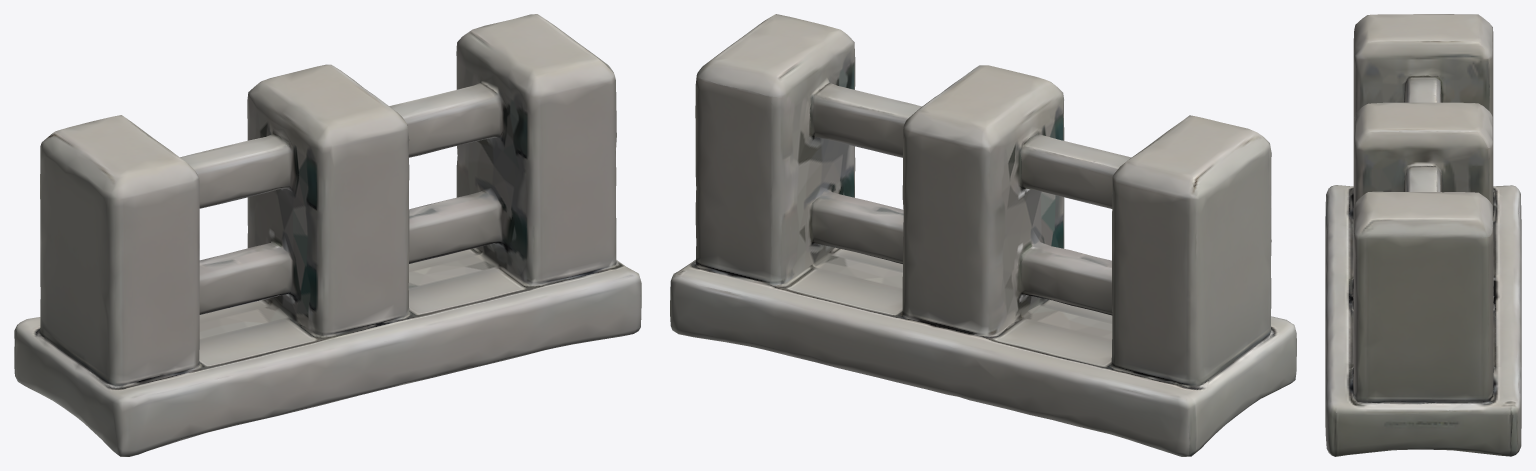
The model's file is Handle.glb.
3 views of the same model, side by side, from view 1: azimuth 30°, elevation 25°; view 2: azimuth 150°, elevation 25°; view 3: azimuth 270°, elevation 25° (orthographic). The views are drawn at different scales.
Parts seen in each view (by area): view 1: input; view 2: input; view 3: input.
Part boxes in pixels (x1=…): input: x1=14, y1=14, x2=641, y2=456; input: x1=670, y1=14, x2=1296, y2=456; input: x1=1325, y1=14, x2=1521, y2=456.
Bounding box in the file's own units: 0.9996 × 0.4795 × 0.3686.
1 material, 1 textured.
